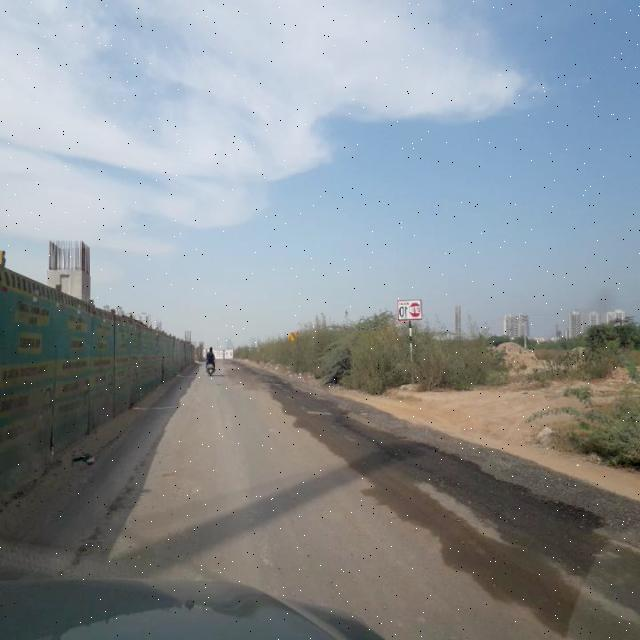D00: (336, 419, 532, 526)
